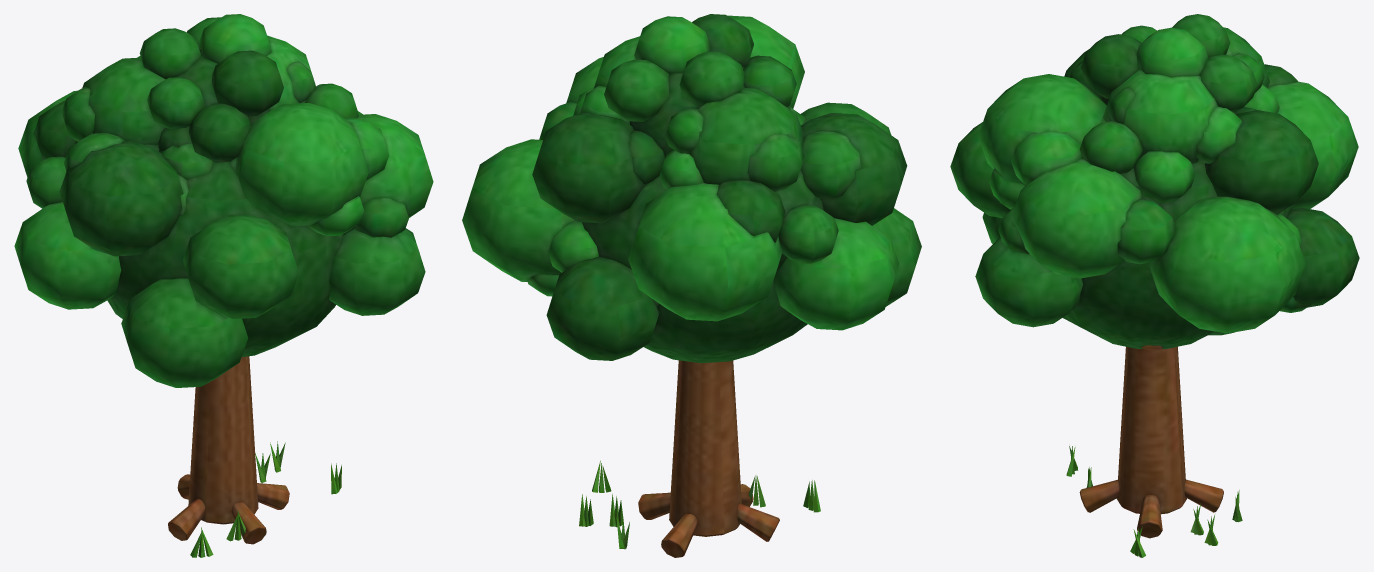
The model's file is pomelo_tree.glb.
3 renders of one model, left to right at view 1: azimuth 30°, elevation 25°; view 2: azimuth 150°, elevation 25°; view 3: azimuth 270°, elevation 25°, orthographic. The views are drawn at different scales.
Parts seen in each view (by area): view 1: crown, pomelo_tree; view 2: crown, pomelo_tree; view 3: crown, pomelo_tree.
Boxes of the visible parts, x1=… form: crown: x1=14, y1=14, x2=433, y2=387; pomelo_tree: x1=168, y1=356, x2=341, y2=557; crown: x1=462, y1=14, x2=921, y2=363; pomelo_tree: x1=579, y1=360, x2=820, y2=557; crown: x1=950, y1=14, x2=1359, y2=348; pomelo_tree: x1=1066, y1=345, x2=1242, y2=557.
Bounding box in the file's own units: 1.22 × 1.52 × 1.15.
1 material, 1 textured.
